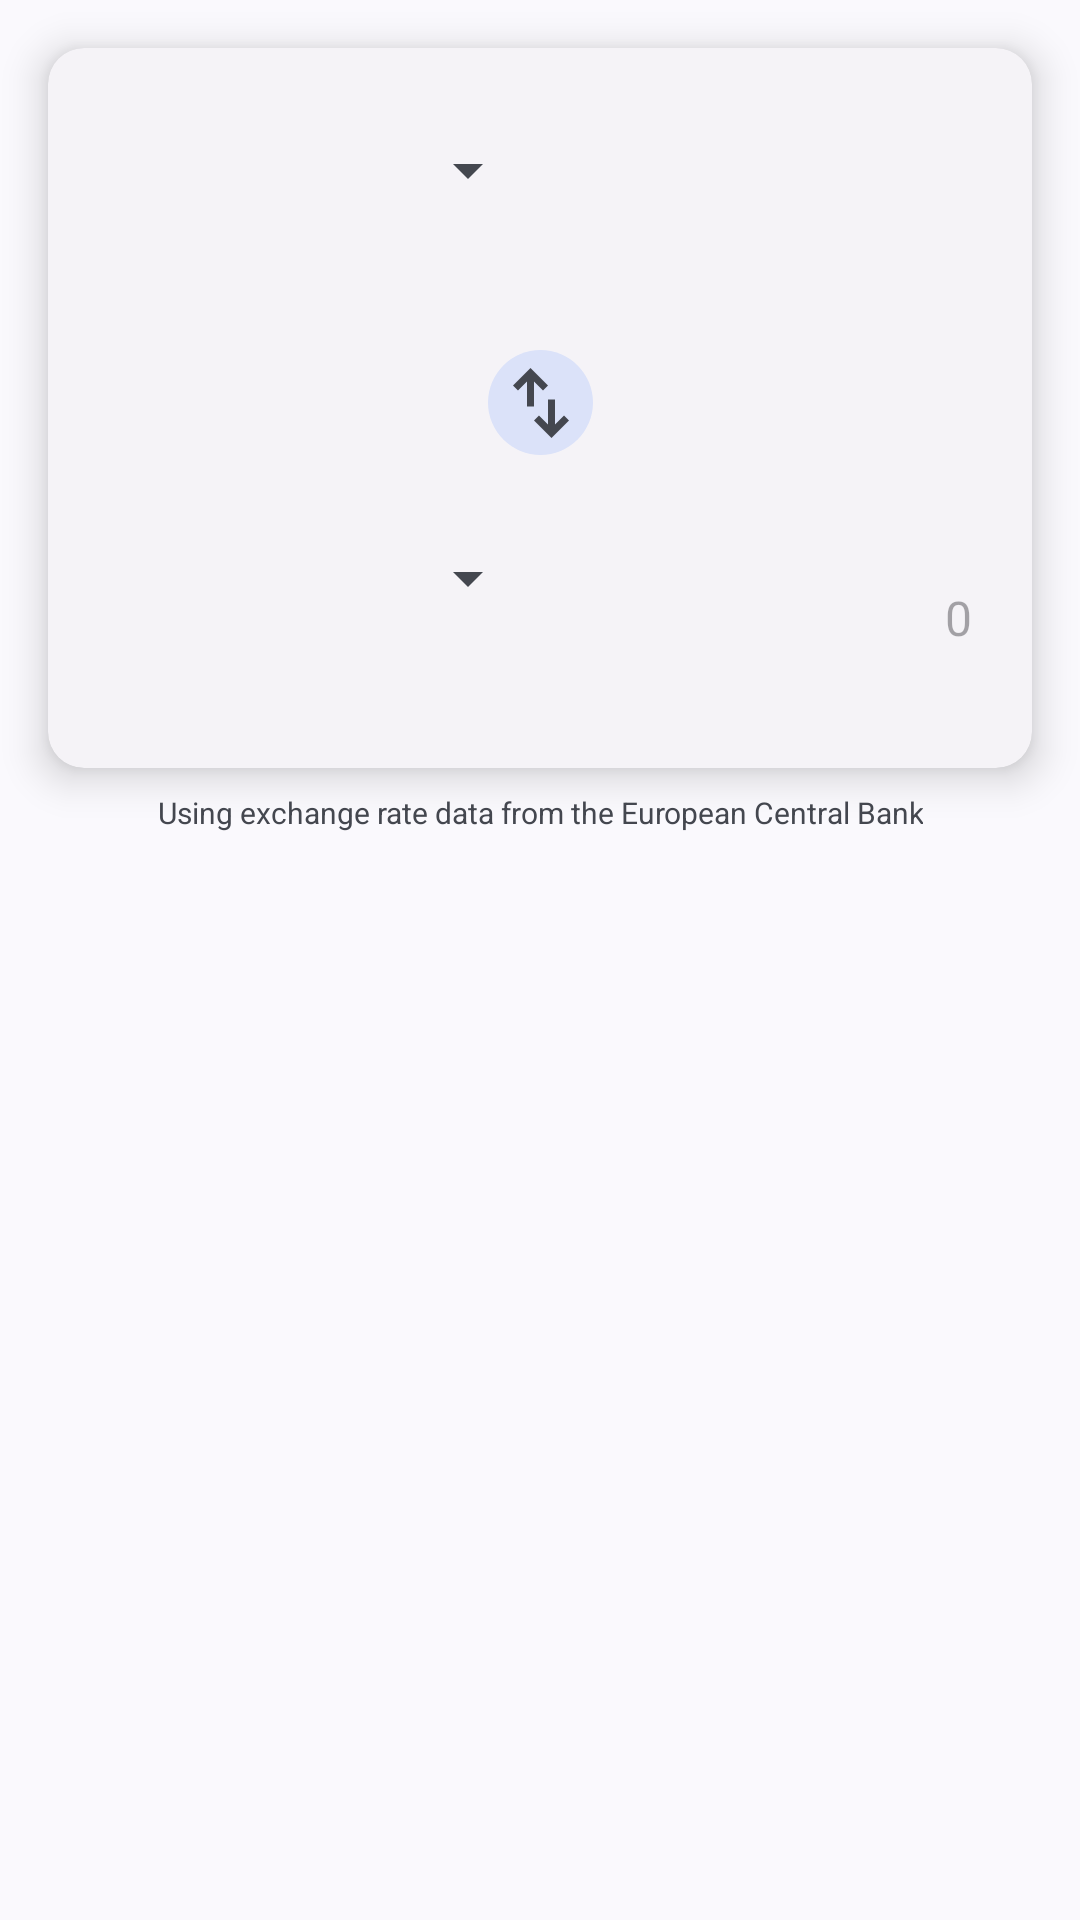

Icon bounding boxes for this 1080×1920 phone screenshot, format (x1, y1, x2, y2):
combined swap vert: (488, 350, 593, 455)
